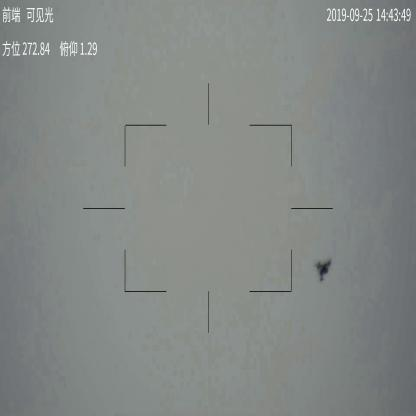uav: (313, 258, 332, 282)
